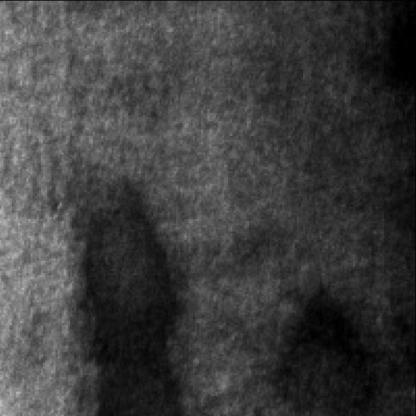patches: (75, 185, 202, 416), (283, 284, 385, 416)
